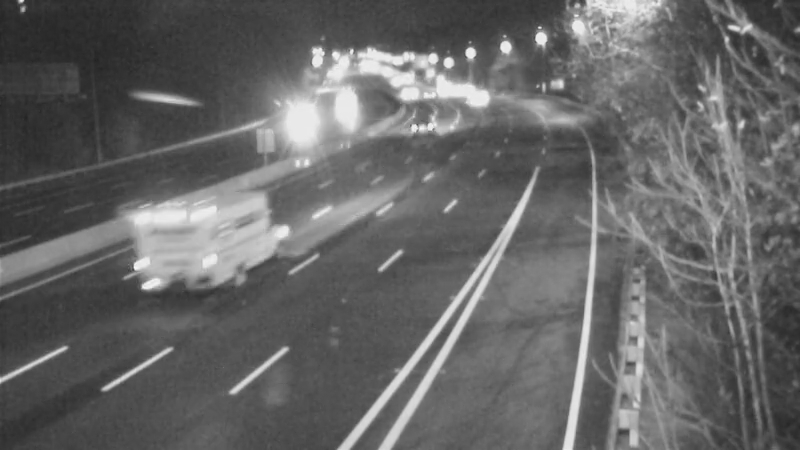vehicle: (141, 210, 221, 290), (384, 66, 434, 116), (402, 68, 452, 118), (451, 74, 501, 124), (392, 99, 442, 149), (266, 99, 316, 149), (315, 79, 365, 129)
